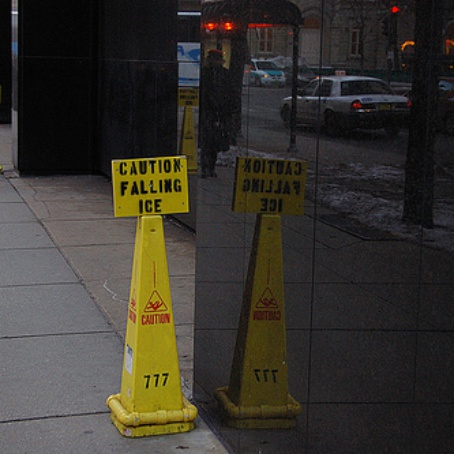car: (275, 72, 413, 134)
sign: (92, 157, 208, 433), (207, 154, 323, 430)
